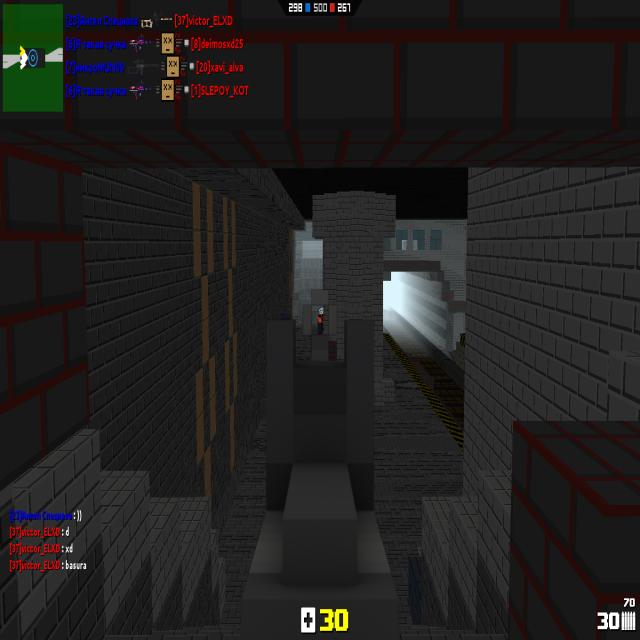enemy: (317, 306, 324, 334)
